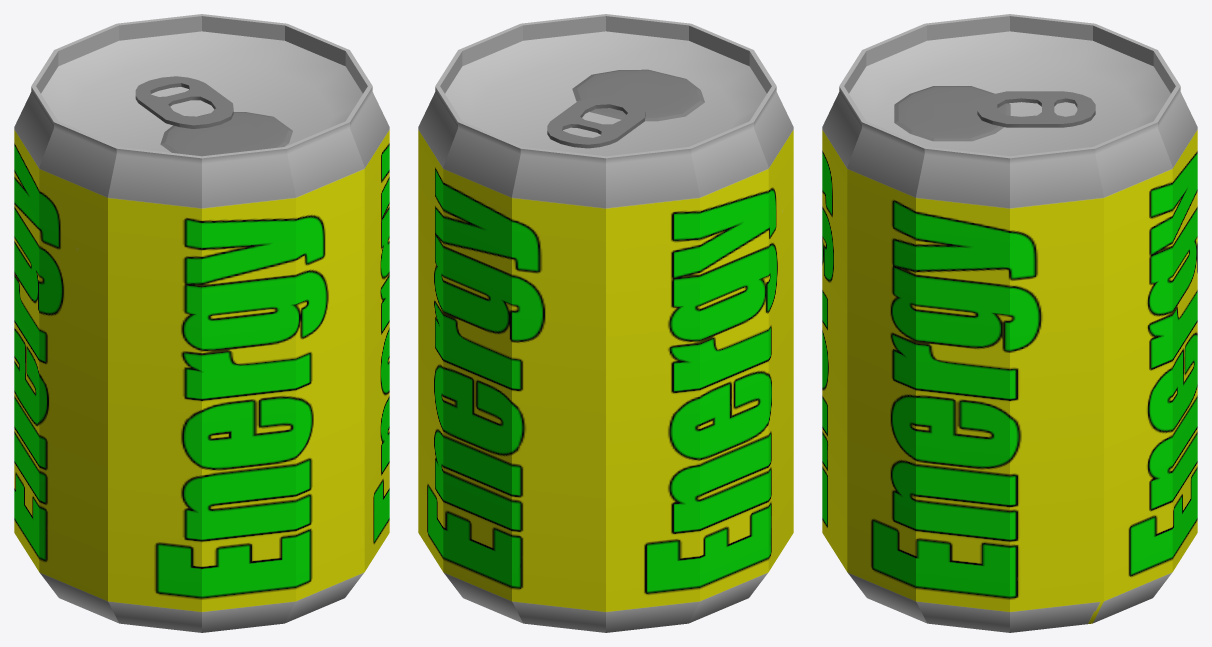
File: EnergyDrink.fbx
The picture shows the model from 3 angles, left to right: view 1: azimuth 30°, elevation 25°; view 2: azimuth 150°, elevation 25°; view 3: azimuth 270°, elevation 25°; orthographic projection.
Visible parts, largest first — view 1: EnergyDrink; view 2: EnergyDrink; view 3: EnergyDrink.
Boxes of the visible parts, box(x1,y1,x2,y2) form: EnergyDrink: box(14, 14, 389, 632); EnergyDrink: box(418, 14, 793, 632); EnergyDrink: box(822, 14, 1197, 632).
Bounding box in the file's own units: 100 × 140 × 100.
